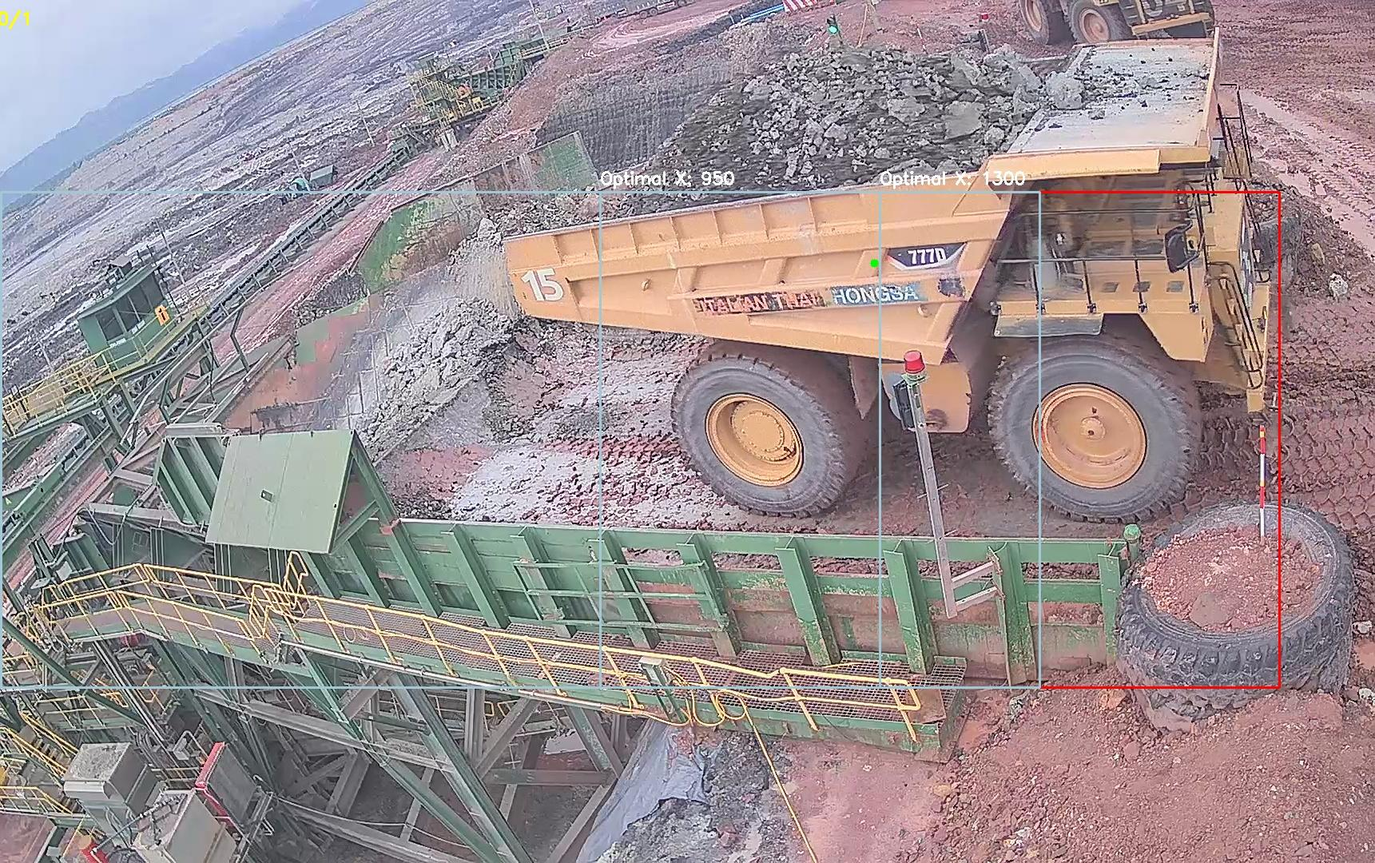company: (684, 271, 930, 321)
full_load: (718, 54, 996, 184)
mining_truck: (486, 32, 1281, 513)
tail_number: (516, 255, 576, 312)
truck_size: (904, 234, 954, 268)
